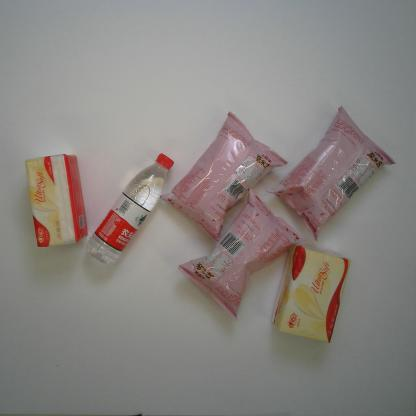Drink: (84, 154, 176, 267)
Puffed Food: (261, 102, 395, 244), (156, 109, 290, 245), (177, 184, 306, 320)
Tissue: (269, 241, 352, 345), (22, 152, 90, 250)
